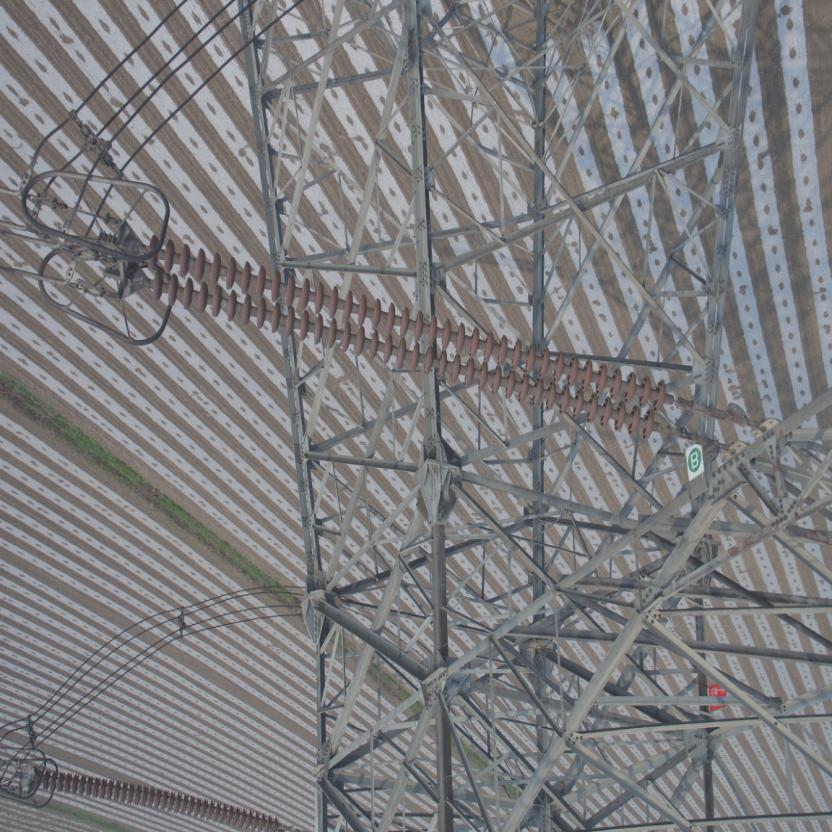insulator: (135, 235, 695, 444)
